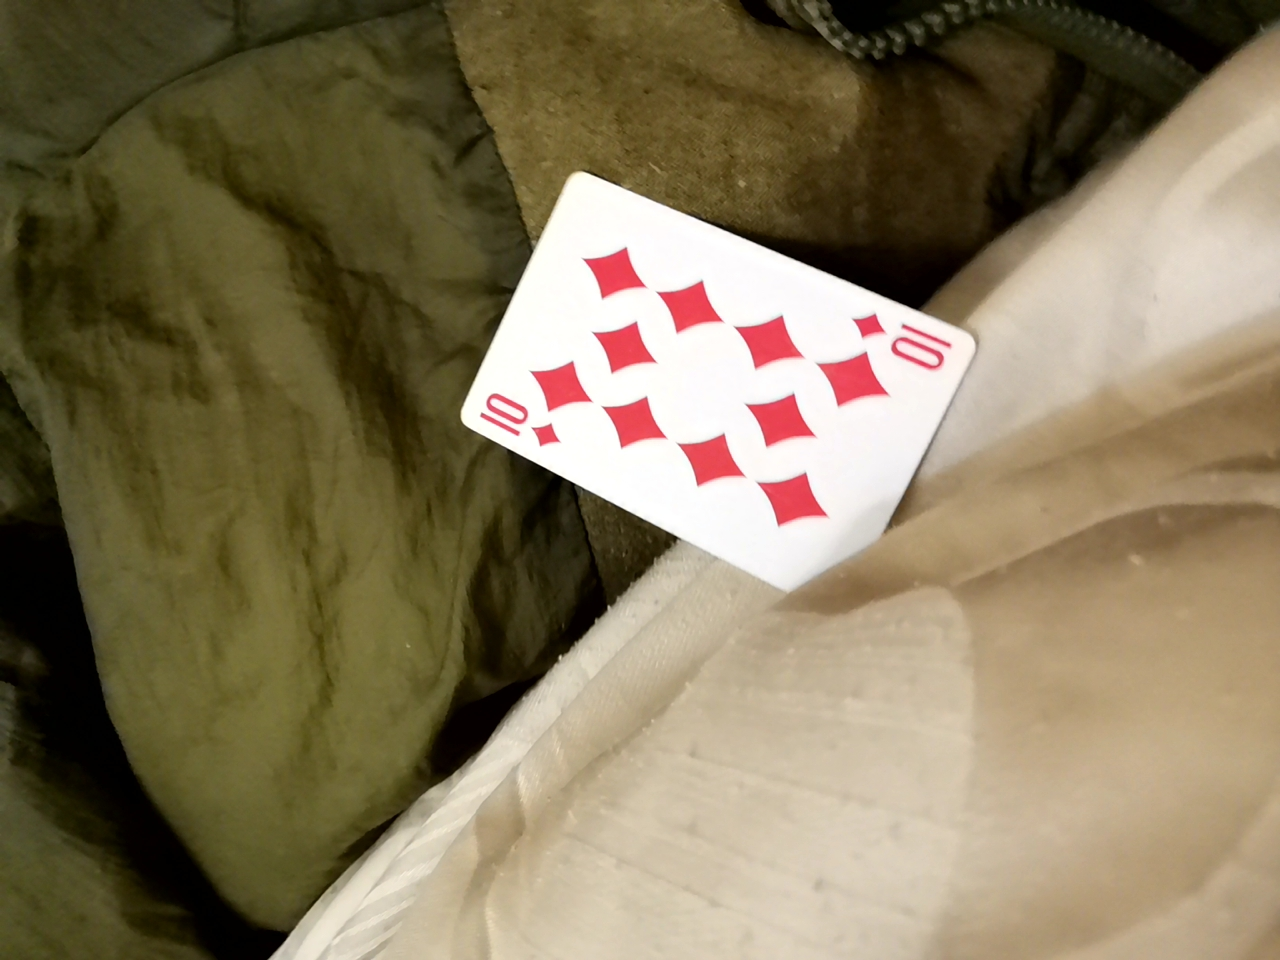fk 10: (441, 163, 978, 593)
